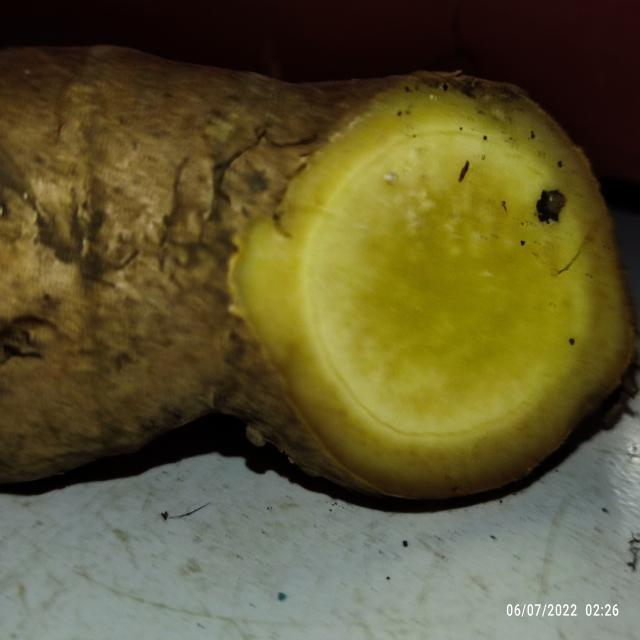ginger: (0, 28, 635, 492)
